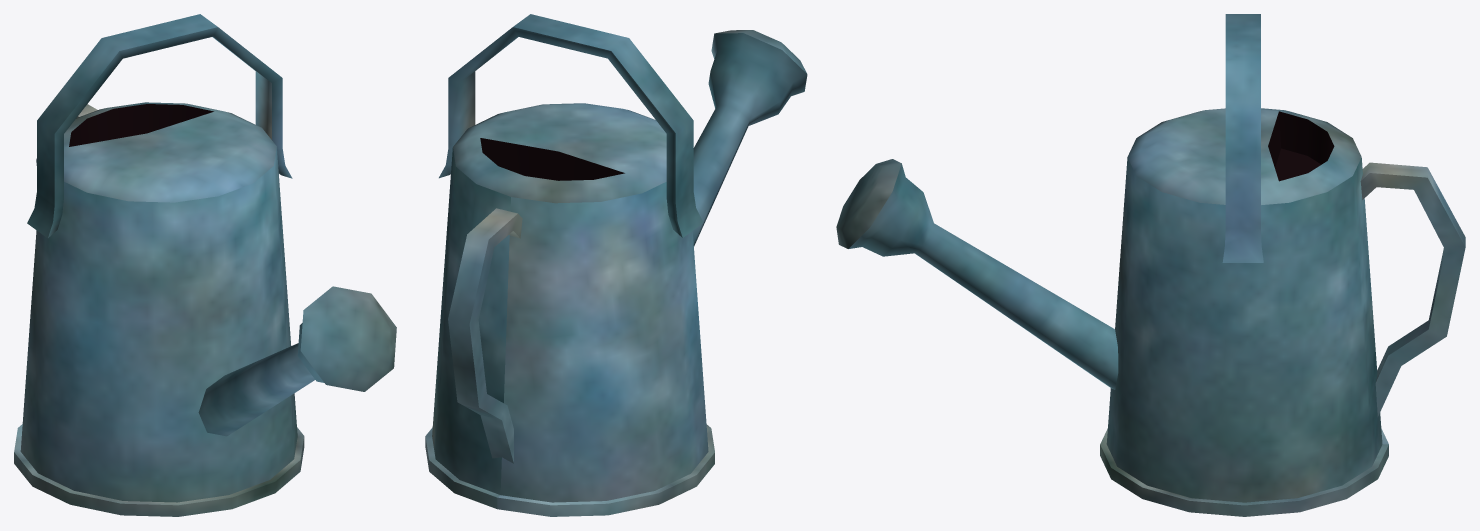
Rendered from watering_can.fbx.
The picture shows the model from 3 angles, left to right: view 1: azimuth 30°, elevation 25°; view 2: azimuth 150°, elevation 25°; view 3: azimuth 270°, elevation 25°; orthographic projection.
Parts seen in each view (by area): view 1: Plane.001; view 2: Plane.001; view 3: Plane.001.
Part boxes in pixels (x1=…): Plane.001: x1=14, y1=14, x2=396, y2=516; Plane.001: x1=425, y1=14, x2=807, y2=516; Plane.001: x1=836, y1=14, x2=1465, y2=516.
Bounding box in the file's own units: 2.44 × 3.89 × 5.3.
